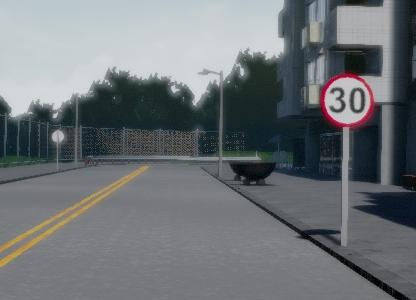Speed_30: (315, 68, 375, 130)
